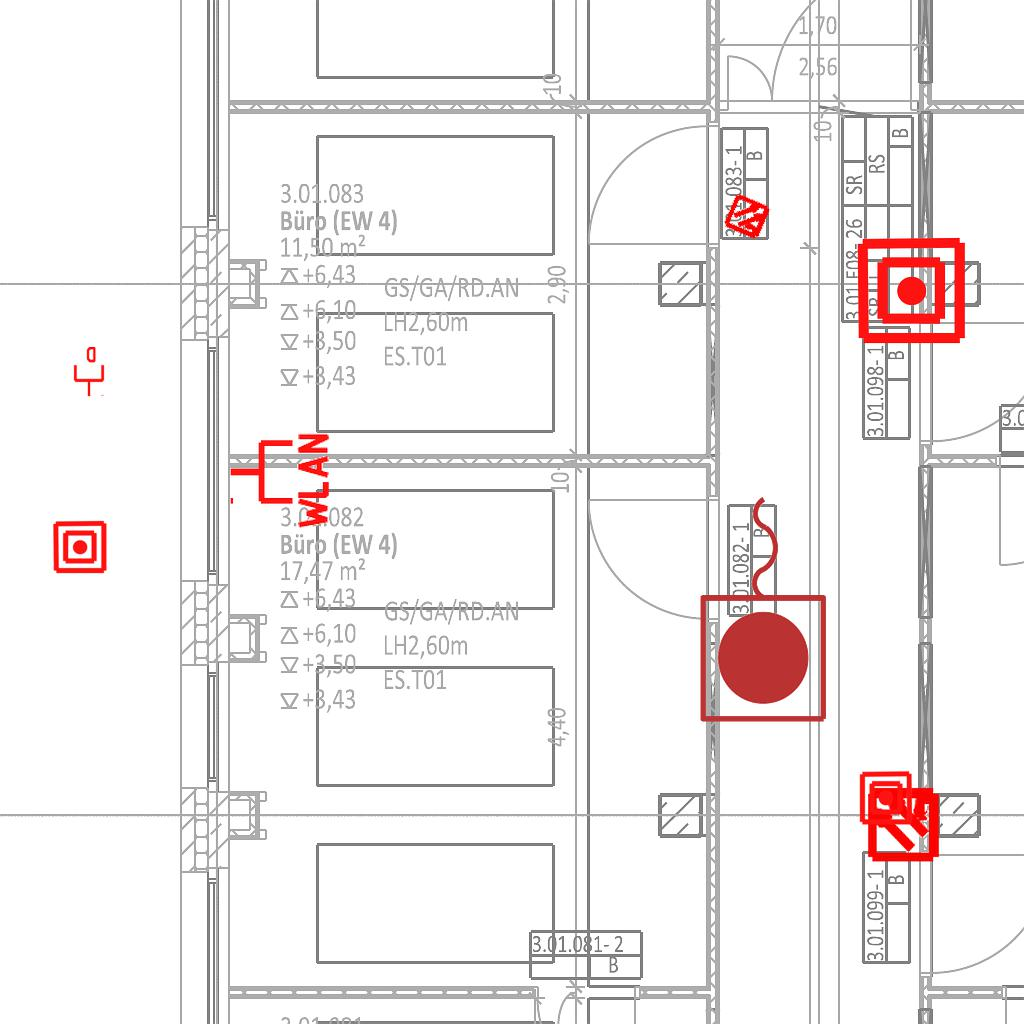Datenanschluss_einfach: (72, 347, 106, 397)
NAM-Nichtautomatischer_Melder: (855, 234, 968, 347), (52, 519, 108, 575), (858, 770, 914, 826)
OT_Multisensormelder_(Kombination_RMO_WMD): (847, 766, 960, 879), (711, 180, 785, 254)
WLAN: (226, 429, 331, 533)
Zugtaster: (693, 486, 837, 730)
